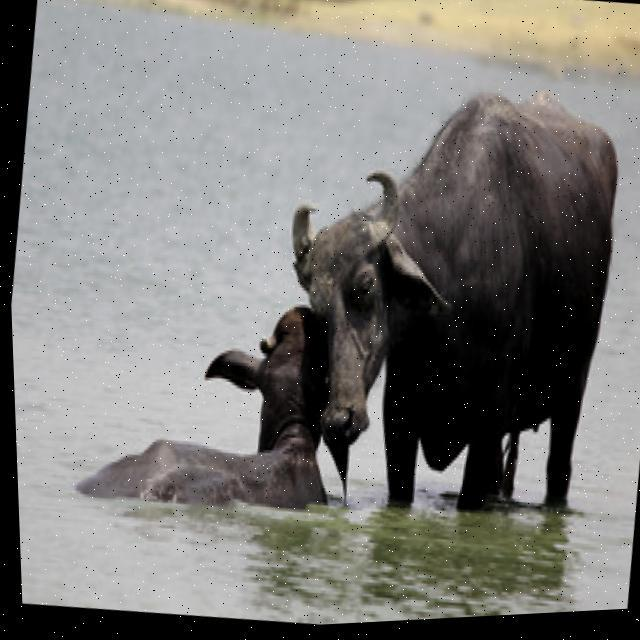Buffalo: (255, 57, 629, 527)
